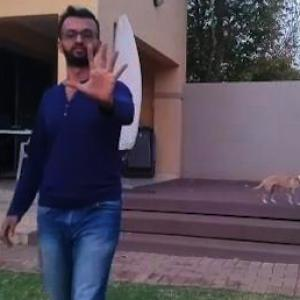follow_hand: (60, 37, 132, 106)
